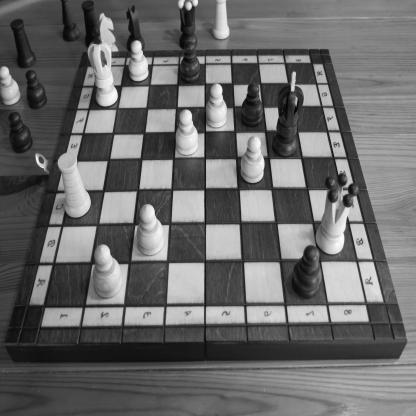black-bishop: (60, 0, 80, 39)
black-king: (272, 70, 304, 158)
black-knight: (125, 4, 145, 50)
black-pawn: (291, 244, 322, 300), (7, 110, 33, 154), (241, 82, 263, 127), (25, 68, 47, 110), (180, 41, 201, 84)
black-queen: (178, 0, 199, 49)
black-rook: (9, 18, 36, 69), (80, 0, 100, 46)
white-king: (87, 27, 119, 108)
white-knight: (97, 12, 119, 52)
white-pawn: (92, 244, 123, 298), (136, 203, 164, 256), (240, 136, 265, 184), (175, 109, 199, 156), (205, 83, 227, 128), (128, 40, 149, 82), (1, 63, 21, 106)
white-queen: (315, 172, 359, 256)
white-rook: (57, 152, 92, 219), (211, 0, 231, 40)
